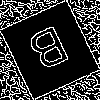B: (24, 24, 76, 80)
